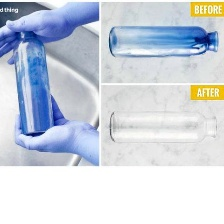bottle: (10, 21, 54, 140), (104, 22, 223, 64), (105, 106, 219, 146)
